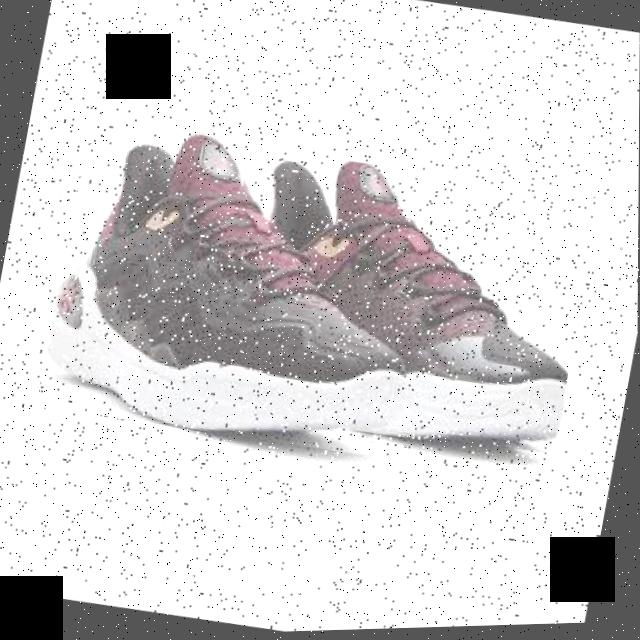shoe: (37, 110, 438, 468), (201, 139, 601, 470)
